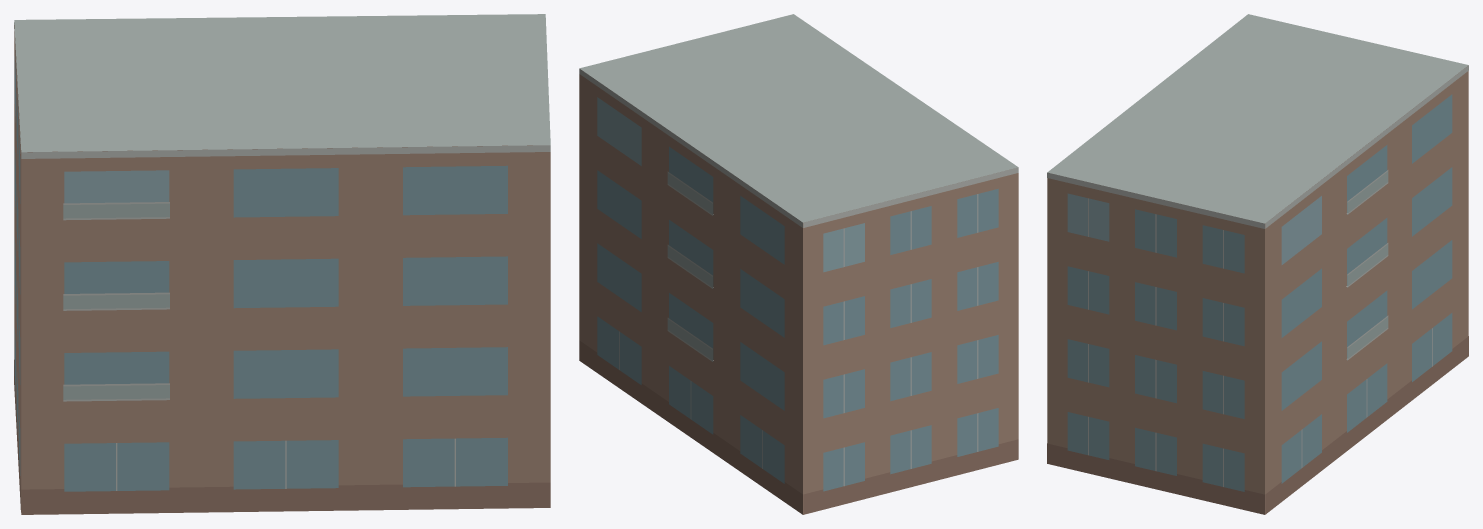
File: survey-upis-32658298.glb
3 views of the same model, side by side, from view 1: azimuth 30°, elevation 25°; view 2: azimuth 150°, elevation 25°; view 3: azimuth 270°, elevation 25° (orthographic). The views are drawn at different scales.
Parts seen in each view (by area): view 1: survey-upis-32658298.tmp; view 2: survey-upis-32658298.tmp; view 3: survey-upis-32658298.tmp.
Boxes of the visible parts, bbox=[...] form: survey-upis-32658298.tmp: bbox=[14, 14, 550, 514]; survey-upis-32658298.tmp: bbox=[579, 14, 1018, 514]; survey-upis-32658298.tmp: bbox=[1047, 14, 1468, 514].
Size of the model in its own units: 20.07 by 13 by 17.06.
